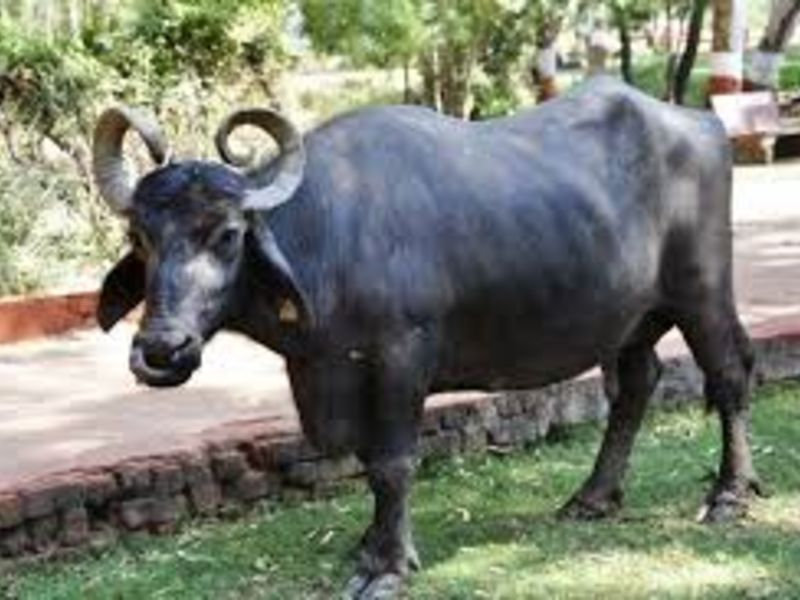buffalo: (79, 63, 768, 600)
